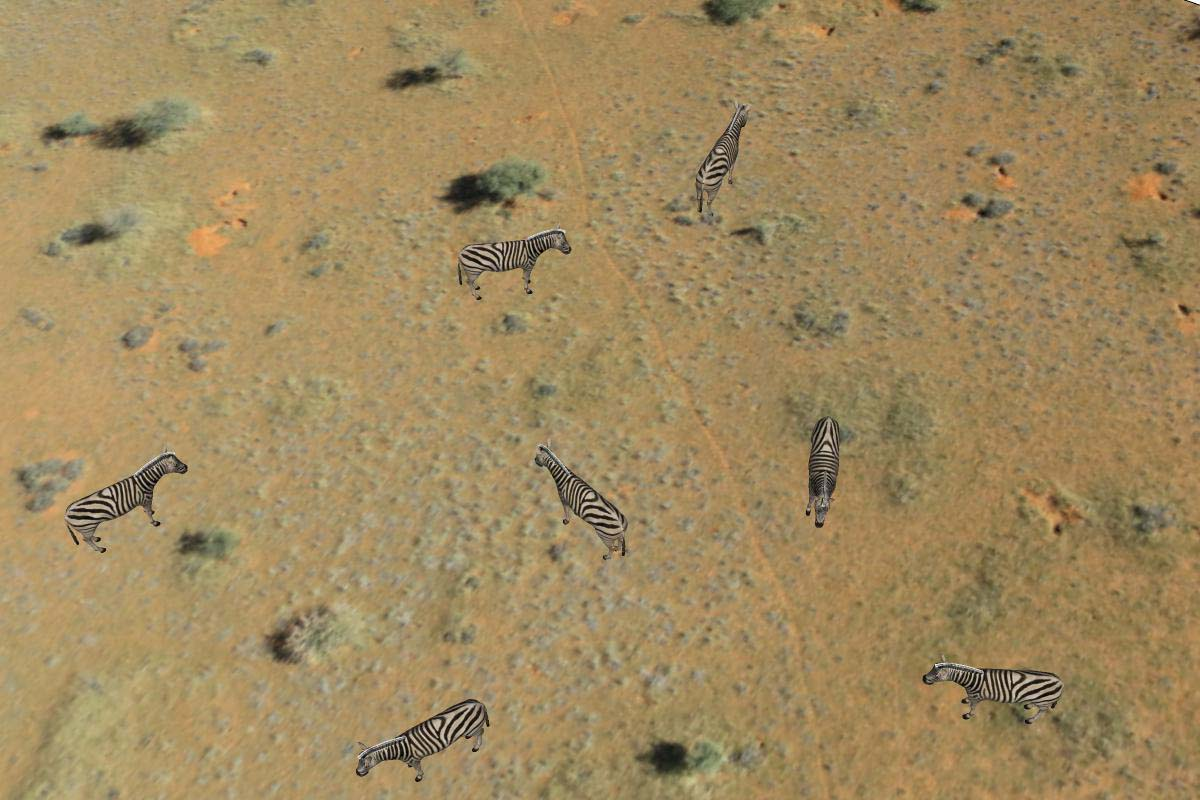zebra: (344, 688, 502, 794), (521, 437, 648, 563), (63, 446, 194, 552), (917, 654, 1077, 737), (450, 229, 577, 302), (688, 96, 755, 221), (803, 402, 846, 527)
